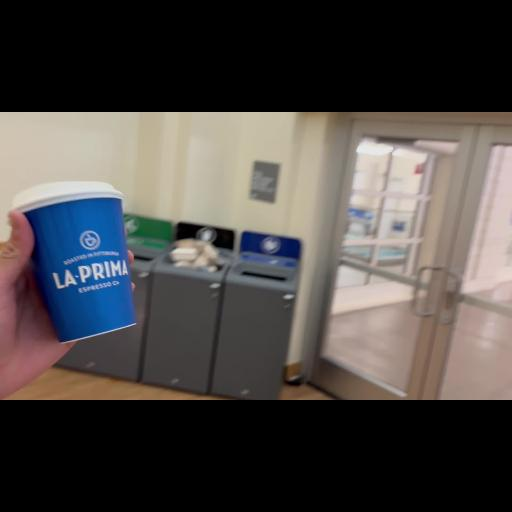lp_paper_cup: (11, 181, 139, 343)
